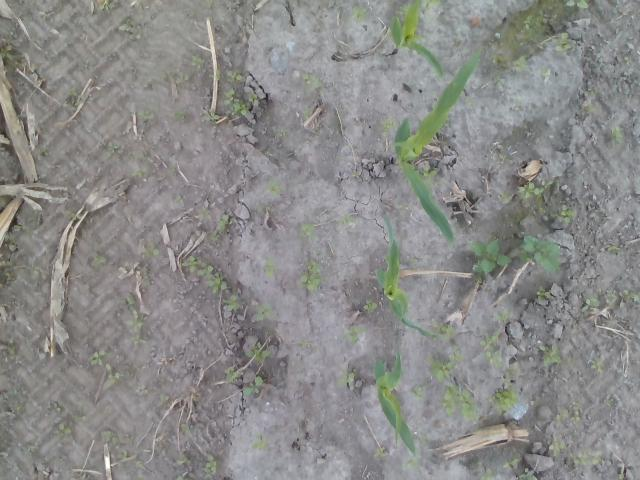Maize: (392, 52, 482, 239), (374, 210, 434, 339), (372, 352, 418, 460), (391, 0, 442, 78)
Weeds: (426, 348, 481, 424), (519, 232, 563, 272), (469, 239, 512, 276), (489, 384, 519, 414), (126, 296, 144, 344), (480, 331, 503, 368), (223, 86, 248, 116), (524, 9, 546, 41), (200, 263, 221, 294), (558, 400, 582, 424), (211, 213, 232, 240), (300, 260, 320, 288), (552, 30, 573, 54), (244, 342, 272, 360), (517, 181, 546, 198), (262, 254, 280, 281), (539, 342, 561, 364), (552, 203, 576, 223), (243, 374, 263, 398), (606, 289, 640, 303), (344, 325, 369, 344), (574, 450, 602, 466), (549, 433, 567, 456), (105, 363, 122, 387), (203, 452, 217, 480), (214, 70, 242, 84), (264, 176, 281, 198), (87, 350, 110, 366), (255, 303, 274, 322), (222, 294, 240, 313), (510, 54, 530, 71), (502, 452, 520, 470), (182, 254, 200, 272), (298, 222, 316, 240), (142, 238, 160, 256), (101, 429, 120, 446), (223, 365, 240, 384), (434, 324, 454, 340), (52, 422, 72, 438), (136, 110, 153, 128), (582, 296, 598, 314), (351, 4, 366, 23), (302, 74, 322, 88), (382, 118, 398, 135), (408, 383, 426, 398), (105, 142, 118, 162), (337, 372, 357, 385), (610, 127, 624, 145), (564, 0, 588, 10), (518, 468, 537, 480), (536, 286, 552, 300), (479, 468, 497, 480), (363, 299, 378, 313), (68, 89, 79, 108), (336, 212, 353, 224), (159, 386, 169, 406), (250, 440, 268, 450), (191, 54, 206, 66), (175, 454, 190, 466), (128, 168, 145, 178), (118, 16, 128, 33), (590, 357, 604, 369), (496, 308, 510, 320), (402, 456, 416, 468), (492, 50, 504, 64), (422, 167, 438, 177), (173, 110, 186, 122), (494, 72, 505, 86), (52, 400, 64, 412), (206, 112, 220, 122), (0, 52, 15, 61), (423, 0, 442, 7), (499, 190, 510, 202), (298, 338, 311, 348), (540, 67, 552, 77), (177, 72, 190, 81), (606, 244, 620, 252), (95, 256, 106, 266), (101, 4, 112, 14), (22, 445, 32, 456), (135, 460, 146, 470), (590, 87, 600, 97), (174, 475, 194, 480), (38, 146, 48, 156), (406, 258, 417, 267), (199, 207, 210, 216), (303, 107, 310, 120), (7, 344, 16, 354), (119, 451, 128, 460), (472, 277, 482, 285), (376, 448, 386, 456), (279, 128, 286, 137), (176, 196, 183, 204), (498, 154, 506, 161), (250, 95, 257, 102), (624, 56, 630, 64), (618, 473, 624, 480), (15, 406, 22, 412)
